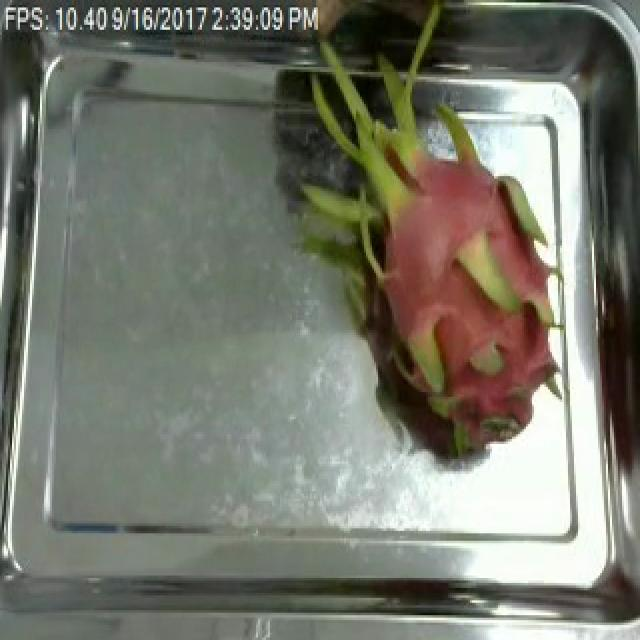fruit: (272, 44, 586, 483)
